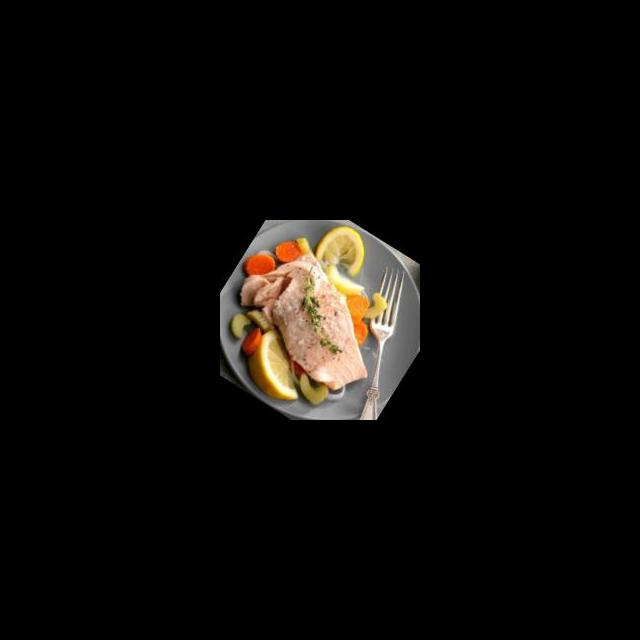ca hoi: (220, 229, 407, 403)
